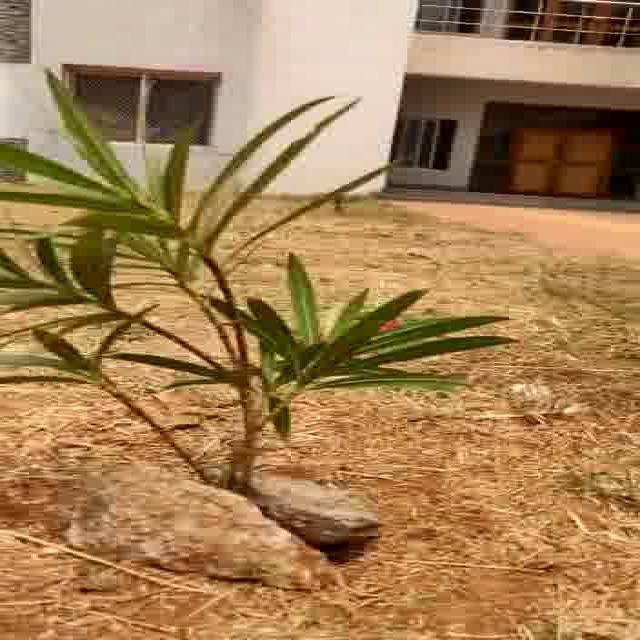Oleander: (48, 48, 538, 444)
